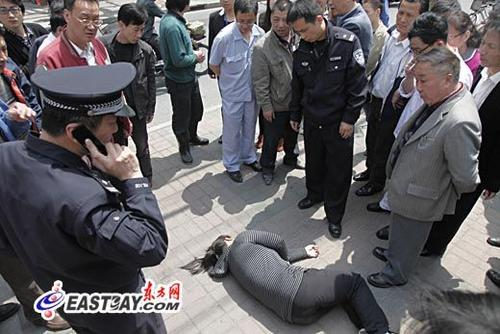10+: (1, 1, 500, 329)
down: (190, 224, 392, 334)
